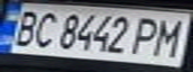2: (106, 12, 139, 55)
4: (90, 11, 115, 53), (72, 10, 96, 53)
8: (54, 10, 81, 52)
B: (3, 8, 45, 47)
C: (27, 9, 63, 50)
M: (145, 16, 190, 58)
P: (127, 14, 169, 56)
